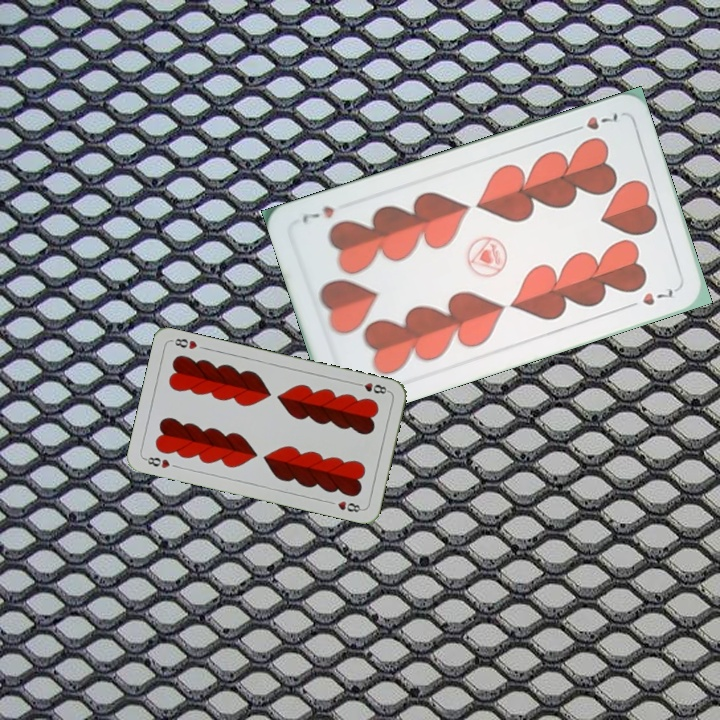H7: (566, 109, 621, 135)
H8: (351, 378, 392, 397), (141, 453, 172, 471)
